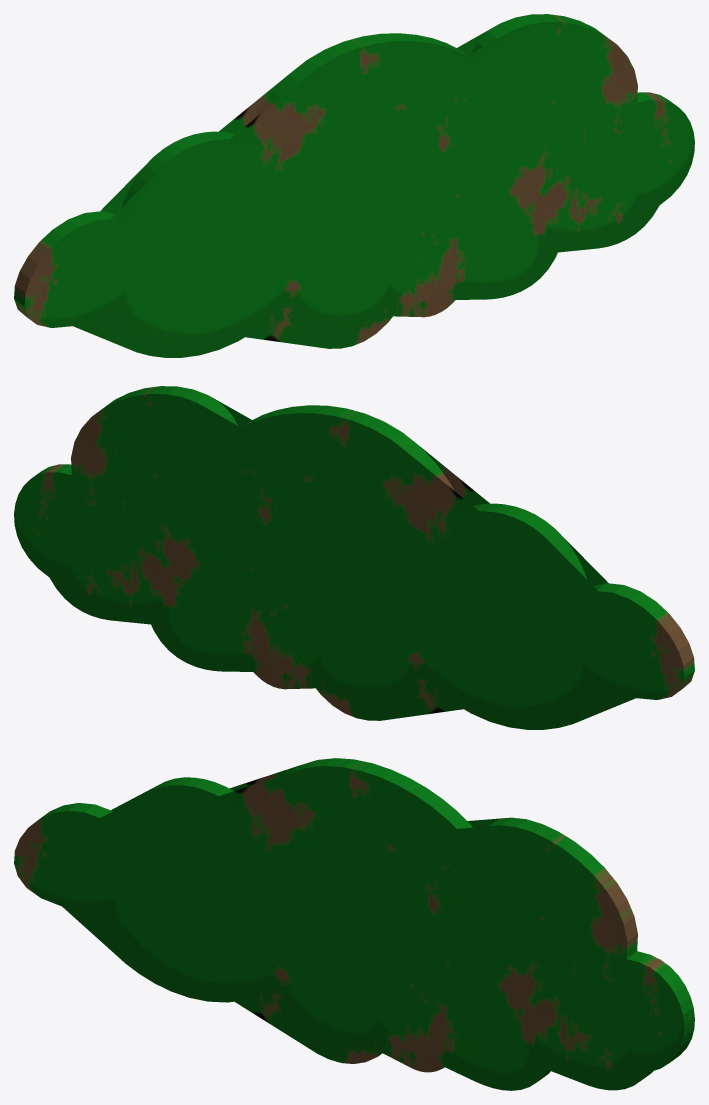
File: arbusto 5.fbx
The picture shows the model from 3 angles, top to bottom: view 1: azimuth 30°, elevation 25°; view 2: azimuth 150°, elevation 25°; view 3: azimuth 330°, elevation 25°; orthographic projection.
Visible parts, largest first — view 1: arbusto 5; view 2: arbusto 5; view 3: arbusto 5.
Part boxes in pixels (x1,y1,x2,y2): arbusto 5: [14, 14, 694, 357]; arbusto 5: [14, 386, 694, 729]; arbusto 5: [14, 758, 694, 1090].
Bounding box in the file's own units: 642 × 272 × 17.73.
Materials: 1 (1 with a texture image).
